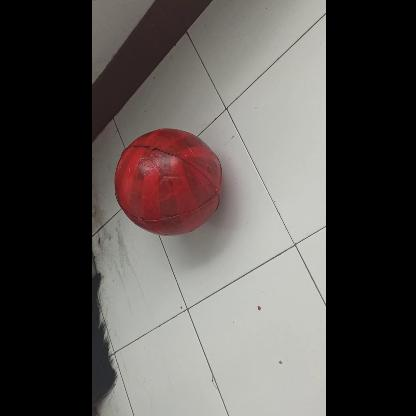red_ball: (112, 126, 222, 236)
